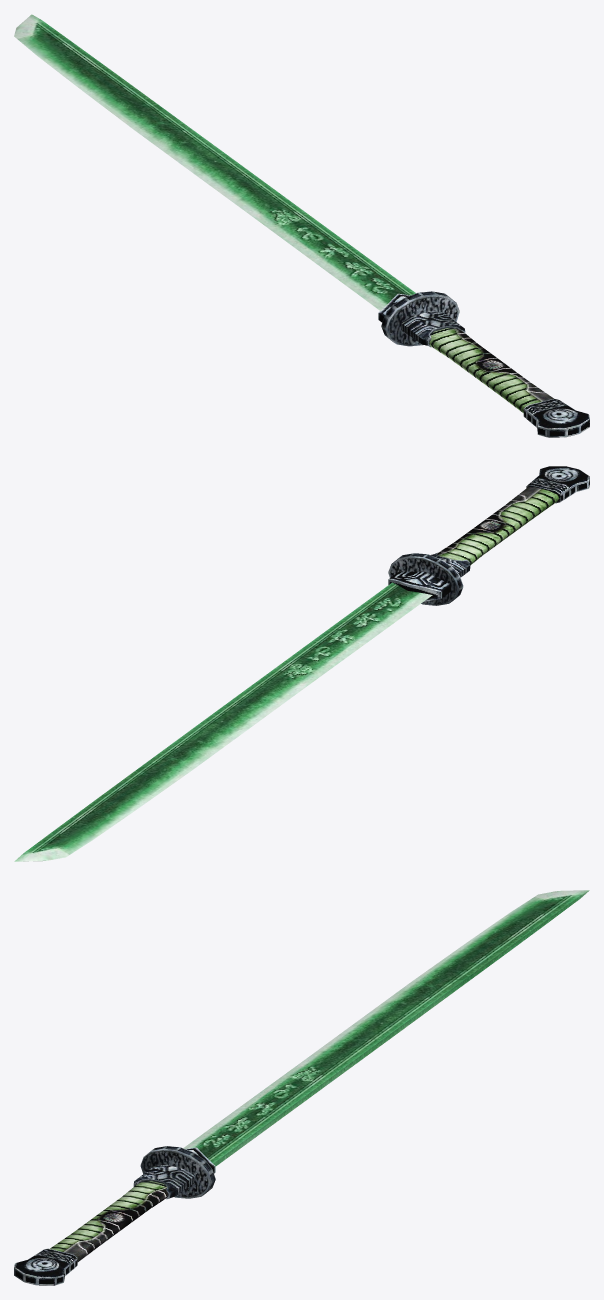
The model's file is sword_heisisyourinken_gacha1_heisisyourinken_gacha1.glb.
3 views of the same model, one above another, from view 1: azimuth 30°, elevation 25°; view 2: azimuth 150°, elevation 25°; view 3: azimuth 330°, elevation 25° (orthographic). The views are drawn at different scales.
Size of the model in its own units: 0.1086 by 0.069 by 1.42.
1 material, 1 textured.
